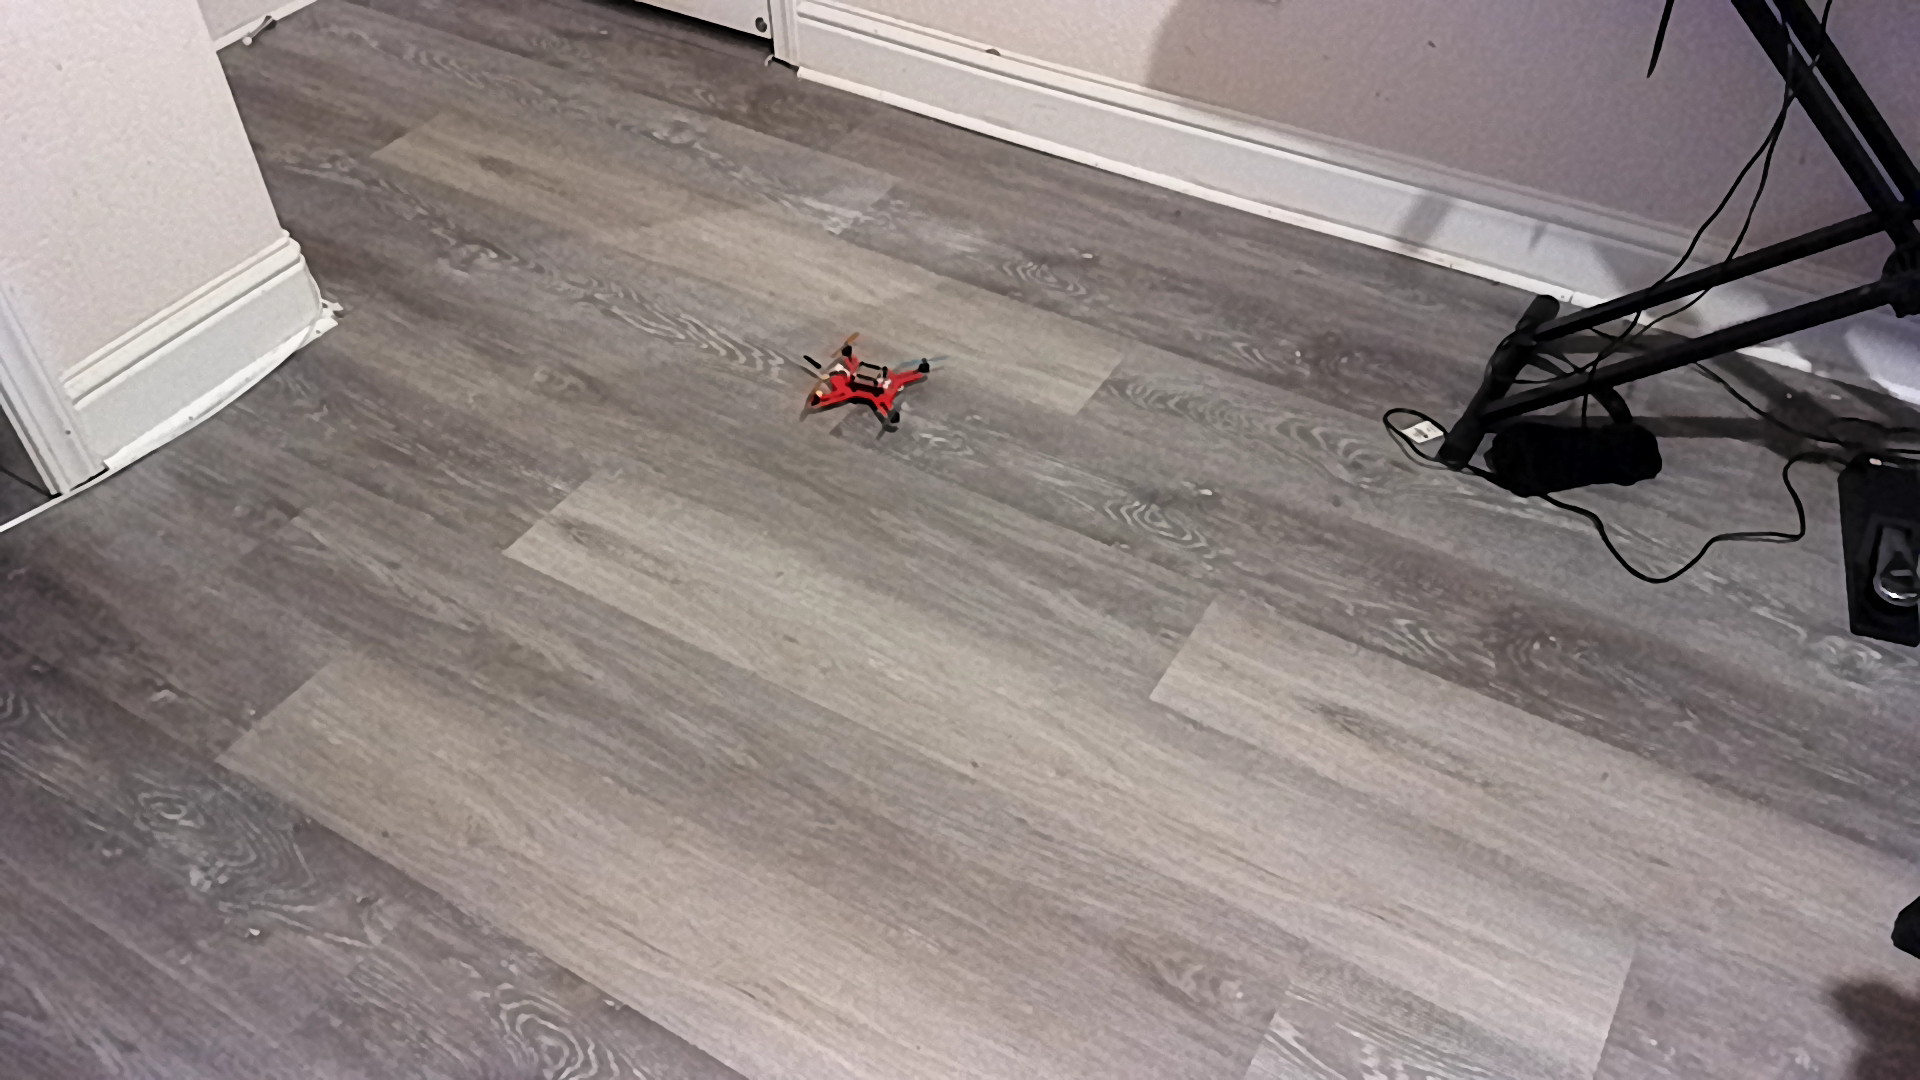drone: (796, 330, 959, 448)
